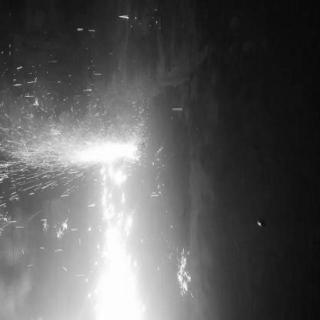Fire: (56, 127, 142, 171)
